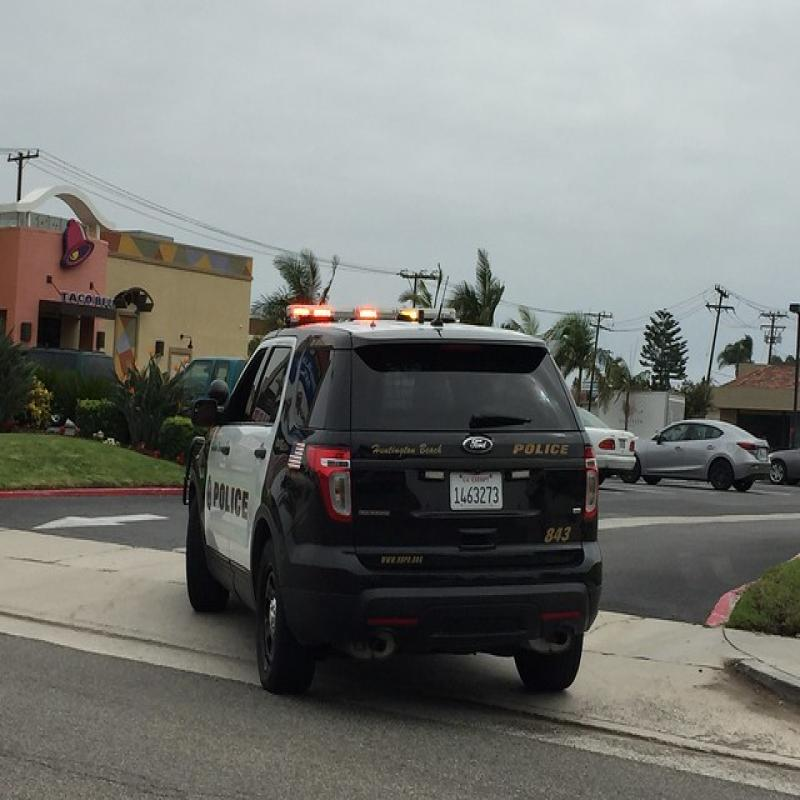AmbulanceSiren: (272, 279, 465, 337)
